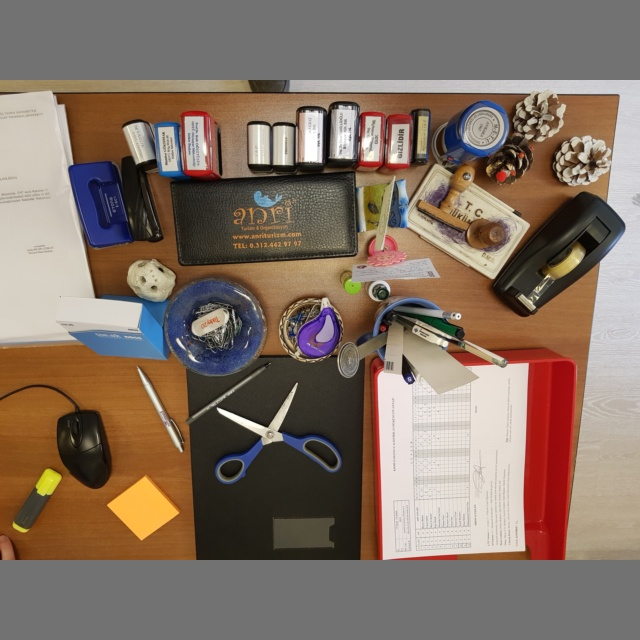scissor: (212, 382, 344, 485)
